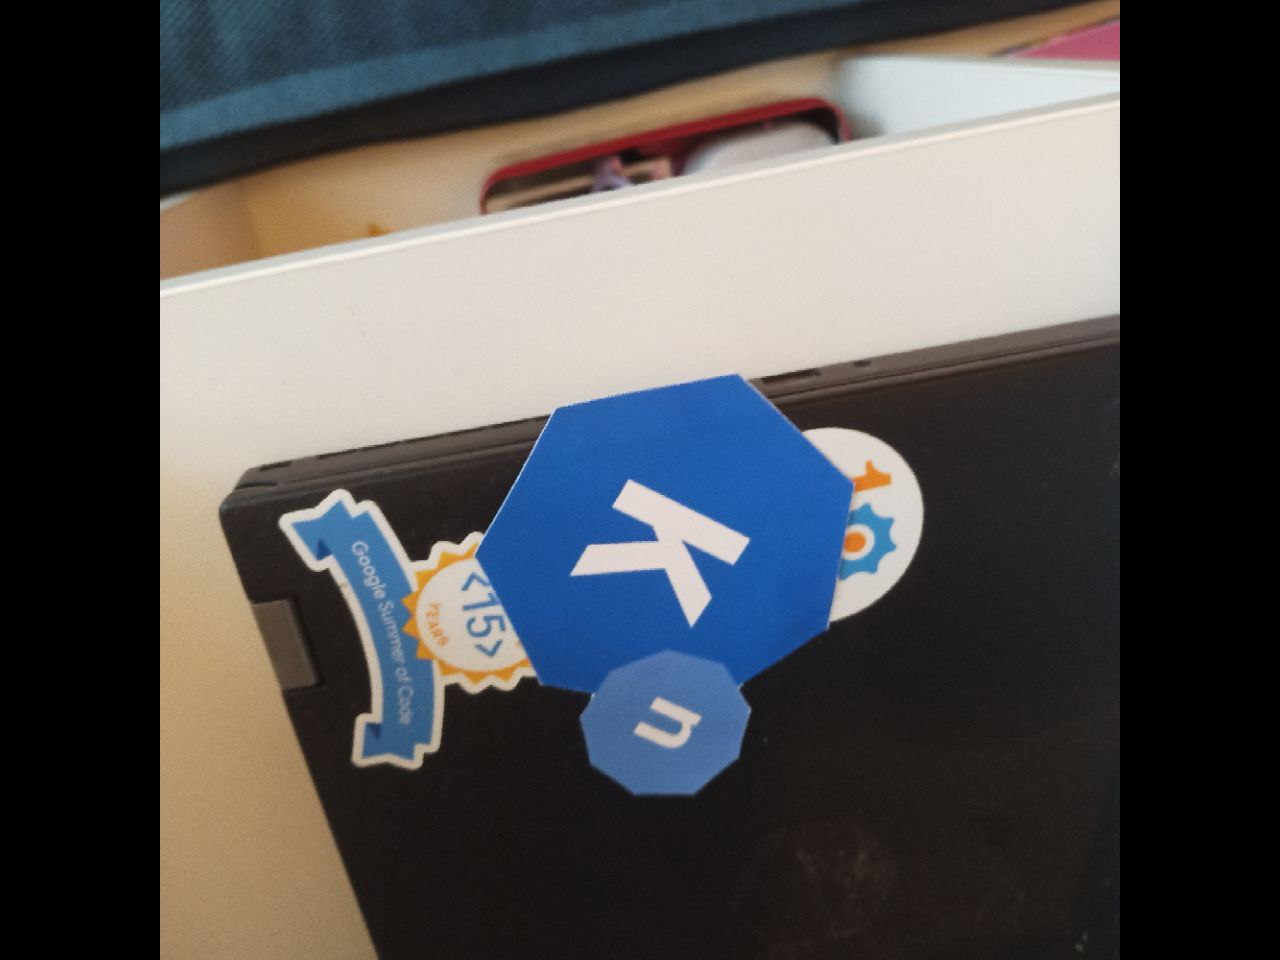knative: (475, 373, 856, 796)
